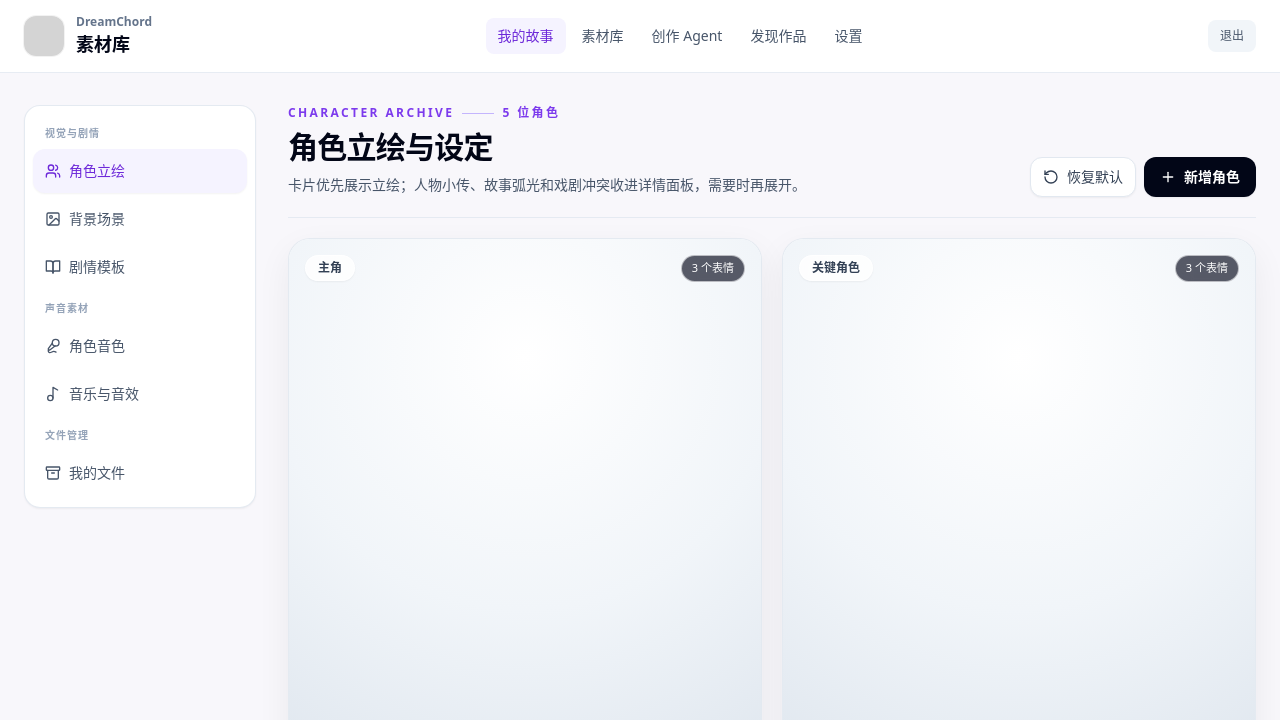
global asset library › promotes music into its own first-class library
Click the button "音乐与音效": (140, 394) [33, 372, 247, 416]
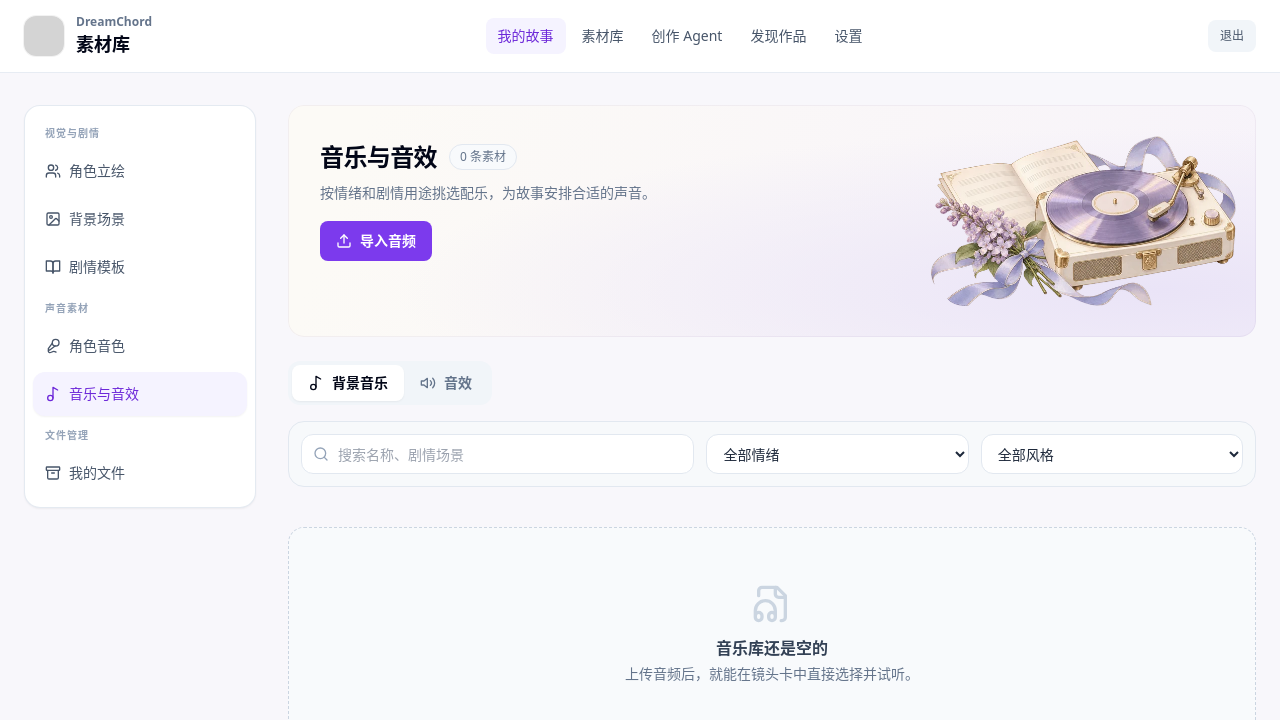
Expected: the heading "音乐与音效" is shown, [320, 141, 437, 173]
Expected: the text "按情绪和剧情用途挑选配乐，为故事安排合适的声音。" is shown, [320, 183, 656, 202]
